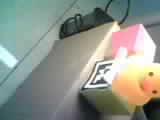duck: (115, 49, 158, 103)
